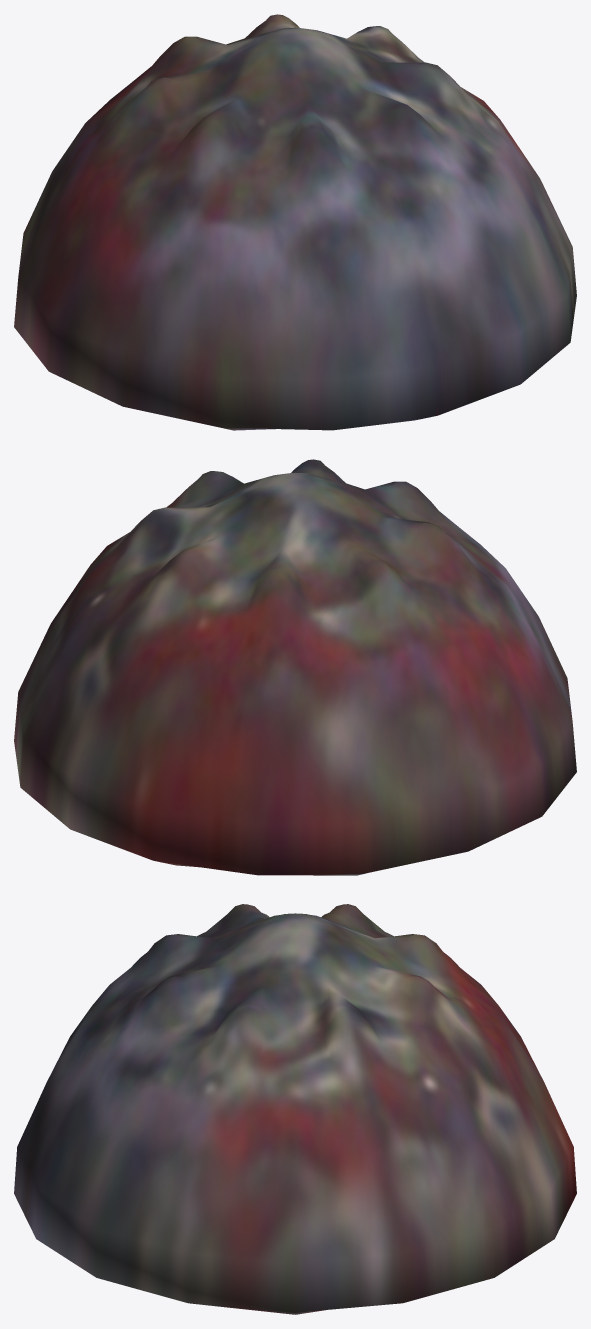
Rendered from Jumper.FBX.
3 renders of one model, top to bottom at view 1: azimuth 30°, elevation 25°; view 2: azimuth 150°, elevation 25°; view 3: azimuth 270°, elevation 25°, orthographic.
Visible parts, largest first — view 1: Jumper; view 2: Jumper; view 3: Jumper.
Part boxes in pixels (left/top/right/bottom): Jumper: left=14, top=14, right=576, bottom=430; Jumper: left=14, top=459, right=576, bottom=875; Jumper: left=14, top=904, right=576, bottom=1314.
Size of the model in its own units: 18.45 by 11.29 by 18.45.
